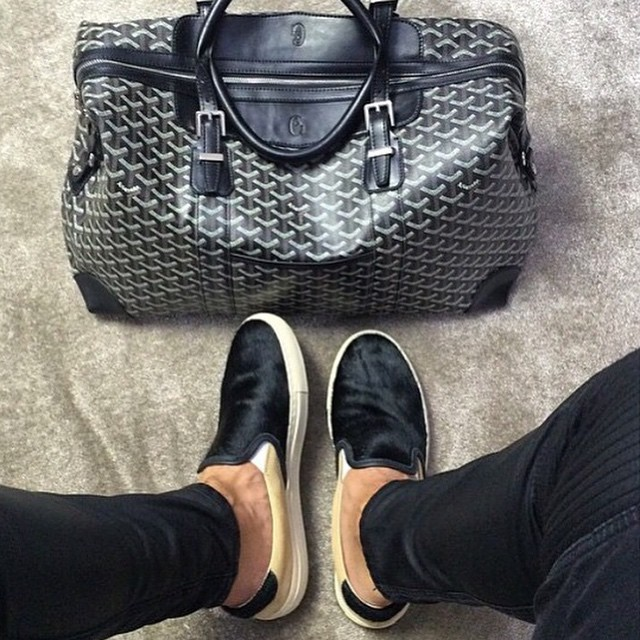sneaker: (175, 292, 325, 638), (324, 290, 442, 639)
